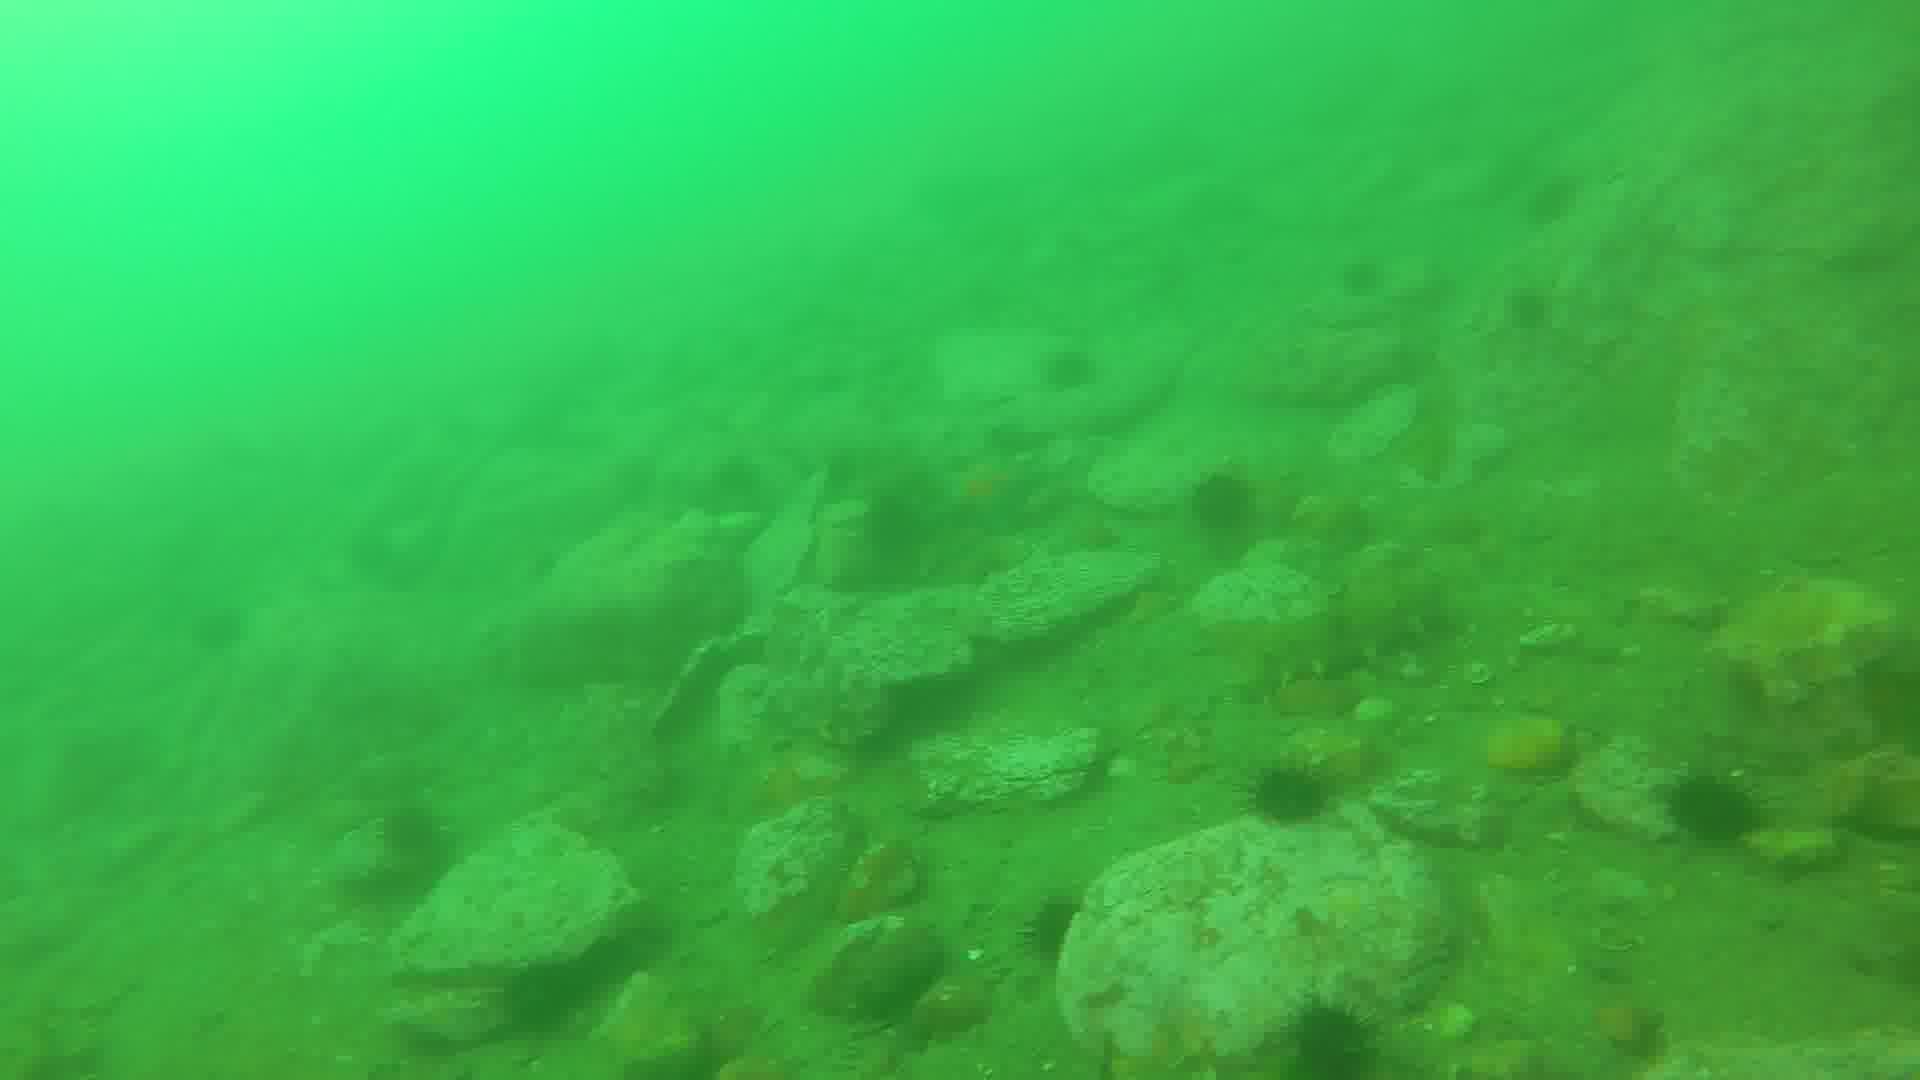echinus: (1280, 1002, 1374, 1080), (1668, 774, 1760, 848), (1241, 758, 1335, 822), (1195, 469, 1255, 531), (1022, 894, 1088, 951), (1342, 258, 1393, 301), (1516, 285, 1557, 331), (1052, 344, 1095, 377)
holothurian: (1254, 592, 1456, 684)
starfish: (945, 459, 1048, 531)
